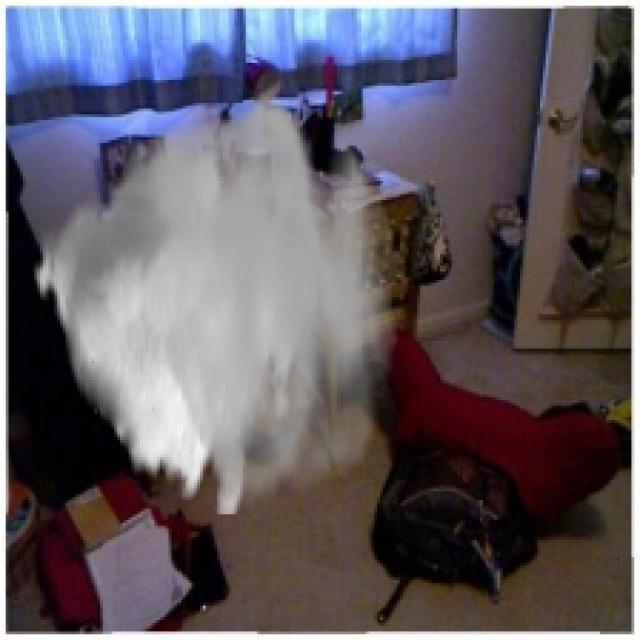Smoke: (32, 92, 397, 514)
